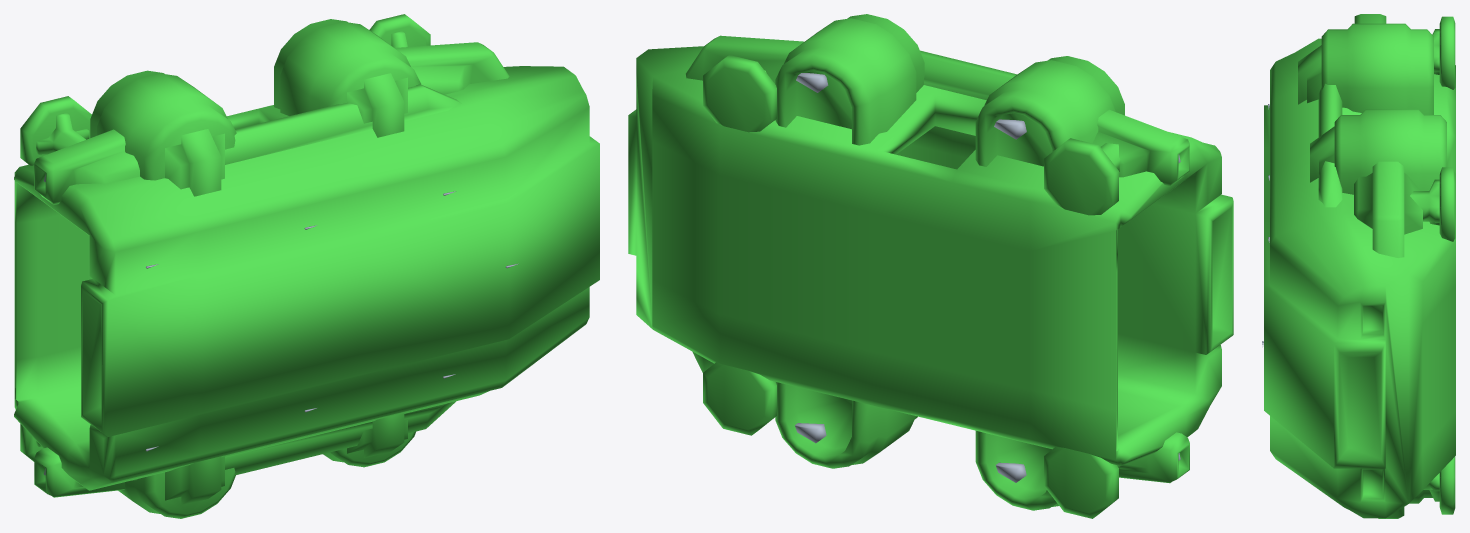
Rendered from DropShip_Final_BetterpackedUVWs.obj.
The picture shows the model from 3 angles, left to right: view 1: azimuth 30°, elevation 25°; view 2: azimuth 150°, elevation 25°; view 3: azimuth 270°, elevation 25°; orthographic projection. The views are drawn at different scales.
Visible parts, largest first — view 1: Target; view 2: Target; view 3: Target.
Part boxes in pixels (x1=…): Target: x1=14, y1=14, x2=599, y2=518; Target: x1=628, y1=14, x2=1233, y2=518; Target: x1=1264, y1=14, x2=1455, y2=518.
Bounding box in the file's own units: 1654 × 1214 × 560.
